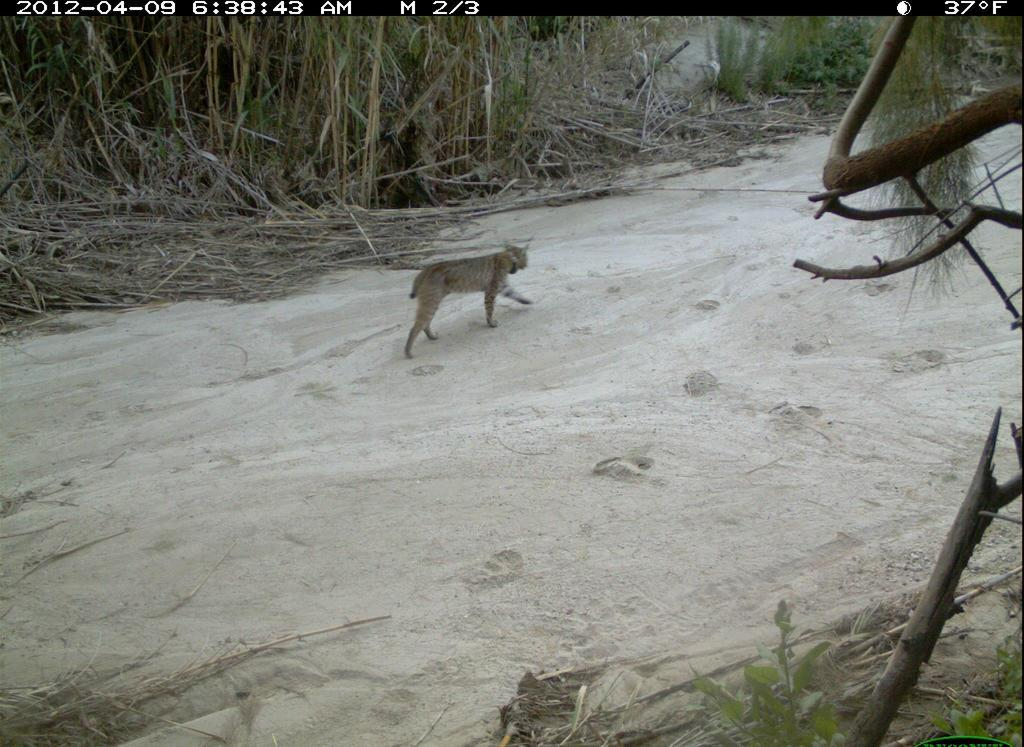bobcat: (392, 237, 543, 361)
